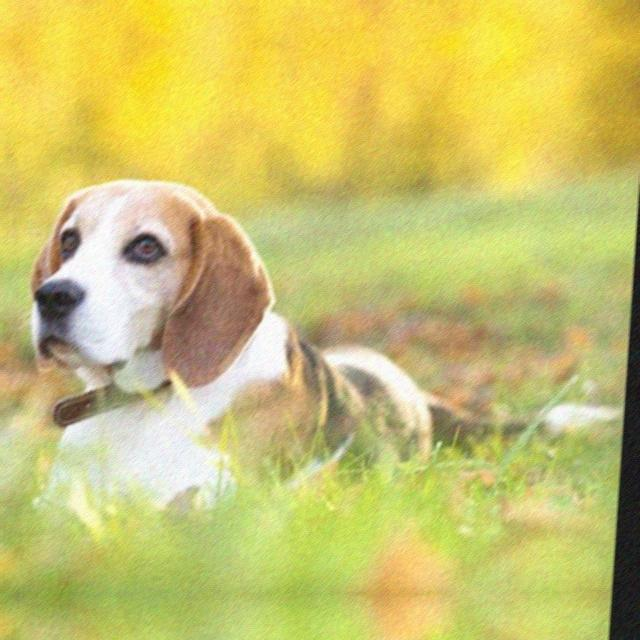dog: (11, 166, 288, 414)
